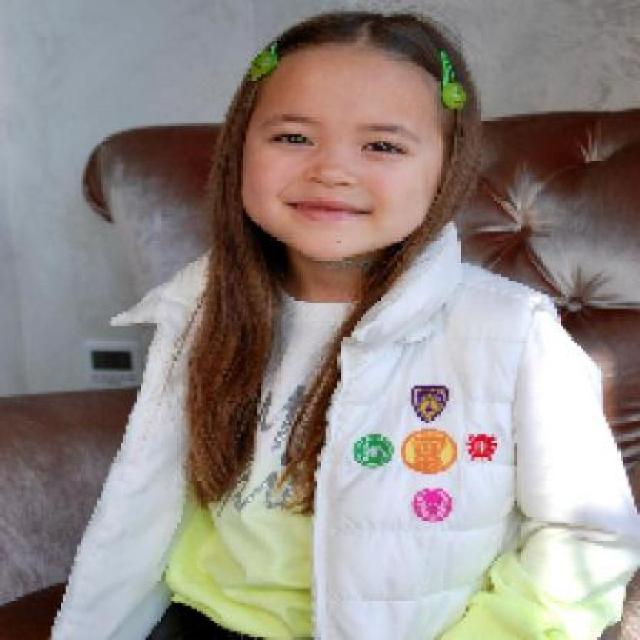child: (45, 8, 638, 638)
